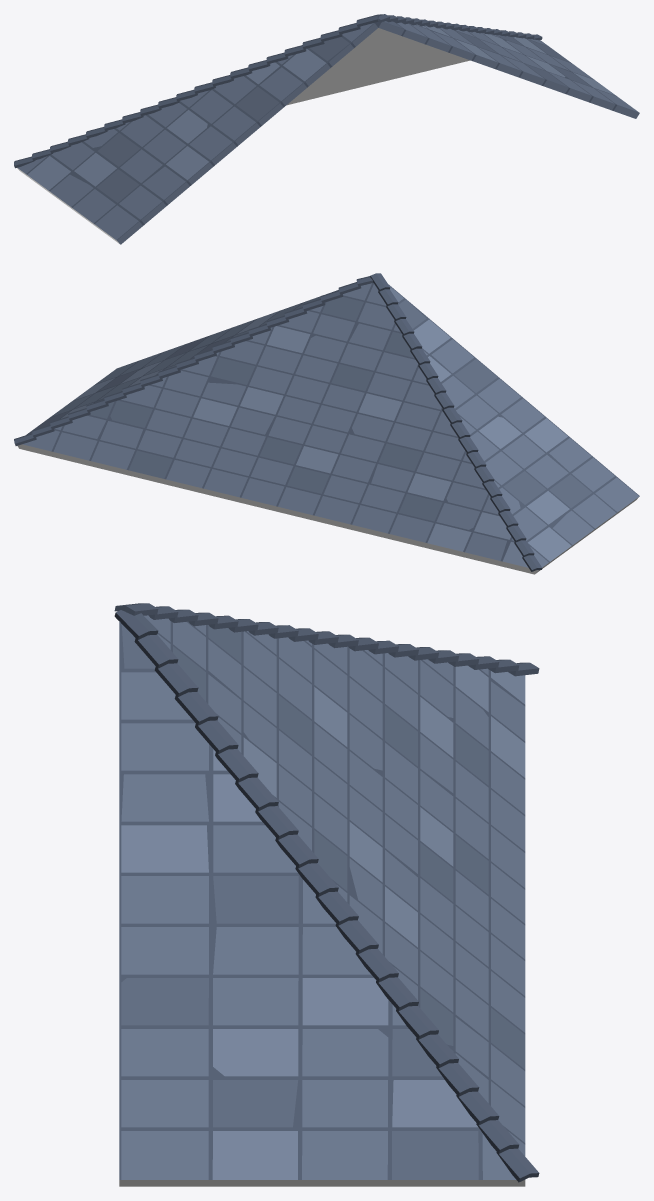
File: Roof3_C7_02.fbx
3 views of the same model, one above another, from view 1: azimuth 30°, elevation 25°; view 2: azimuth 150°, elevation 25°; view 3: azimuth 270°, elevation 25° (orthographic). The views are drawn at different scales.
Parts seen in each view (by area): view 1: Roof3_C7_02; view 2: Roof3_C7_02; view 3: Roof3_C7_02.
Part boxes in pixels (<box>): Roof3_C7_02: <box>14,14,639,244</box>; Roof3_C7_02: <box>14,273,639,574</box>; Roof3_C7_02: <box>114,603,539,1186</box>.
Size of the model in its own units: 842 by 251 by 293.
